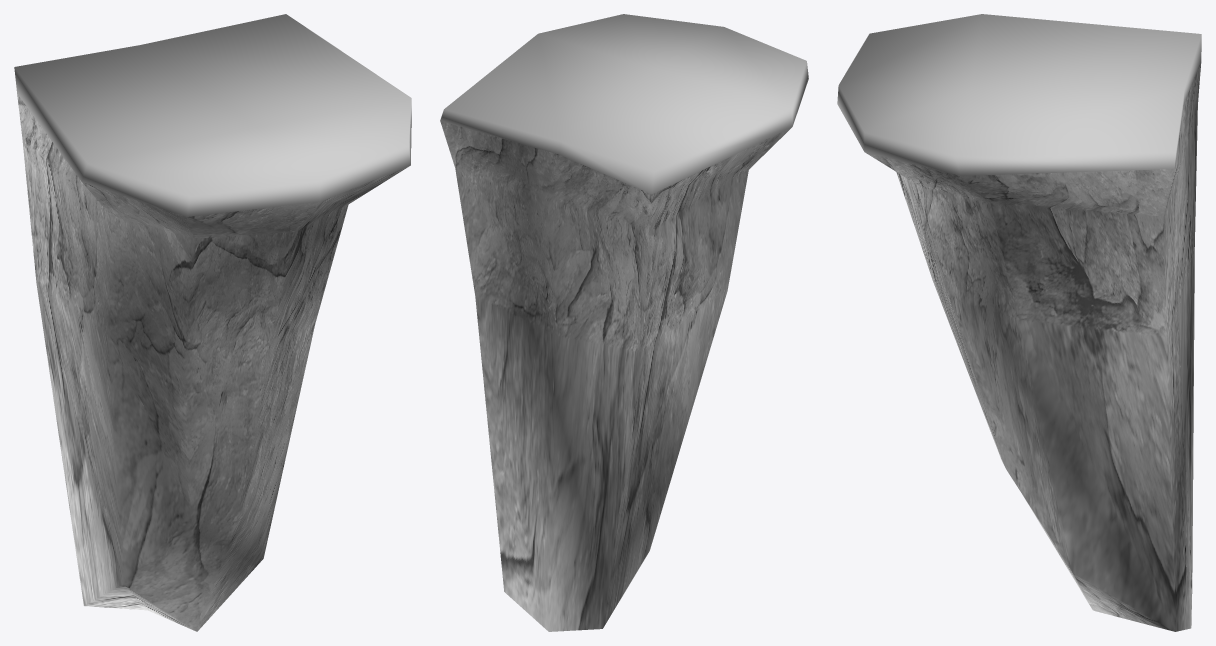
File: Ledge_02.fbx
3 views of the same model, side by side, from view 1: azimuth 30°, elevation 25°; view 2: azimuth 150°, elevation 25°; view 3: azimuth 270°, elevation 25° (orthographic). The views are drawn at different scales.
Parts seen in each view (by area): view 1: Ledge_02; view 2: Ledge_02; view 3: Ledge_02.
Part boxes in pixels (bbox=[...]): Ledge_02: bbox=[14, 14, 411, 631]; Ledge_02: bbox=[440, 14, 808, 631]; Ledge_02: bbox=[837, 14, 1201, 631].
Bounding box in the file's own units: 3680 × 6354 × 3917.
